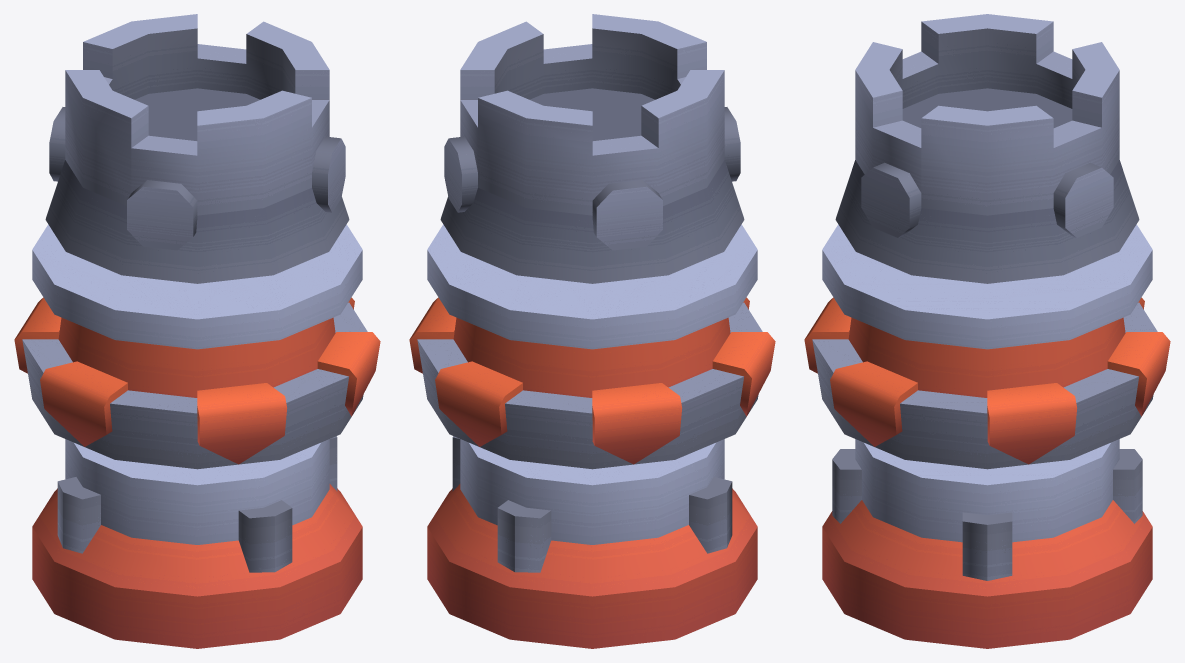
File: archer_2.glb
The picture shows the model from 3 angles, left to right: view 1: azimuth 30°, elevation 25°; view 2: azimuth 150°, elevation 25°; view 3: azimuth 270°, elevation 25°; orthographic projection.
Visible parts, largest first — view 1: archer_2; view 2: archer_2; view 3: archer_2.
Boxes of the visible parts, box(x1,y1,x2,y2) form: archer_2: box(14, 14, 380, 648); archer_2: box(409, 14, 775, 648); archer_2: box(804, 14, 1170, 648).
Size of the model in its own units: 1.11 by 1.7 by 1.11.
Materials: 3 (3 with a texture image).
